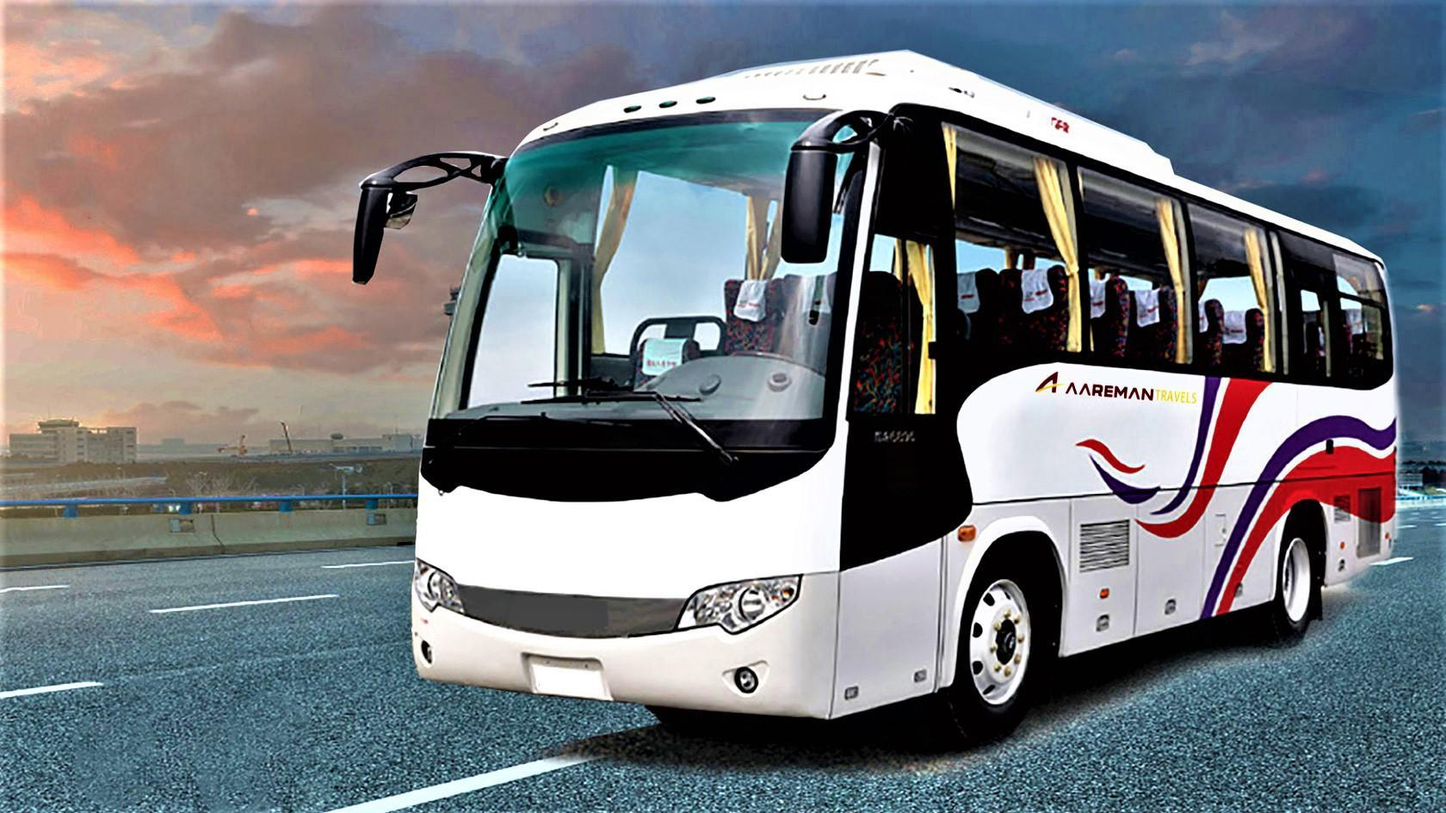Bus: (358, 51, 1404, 744)
